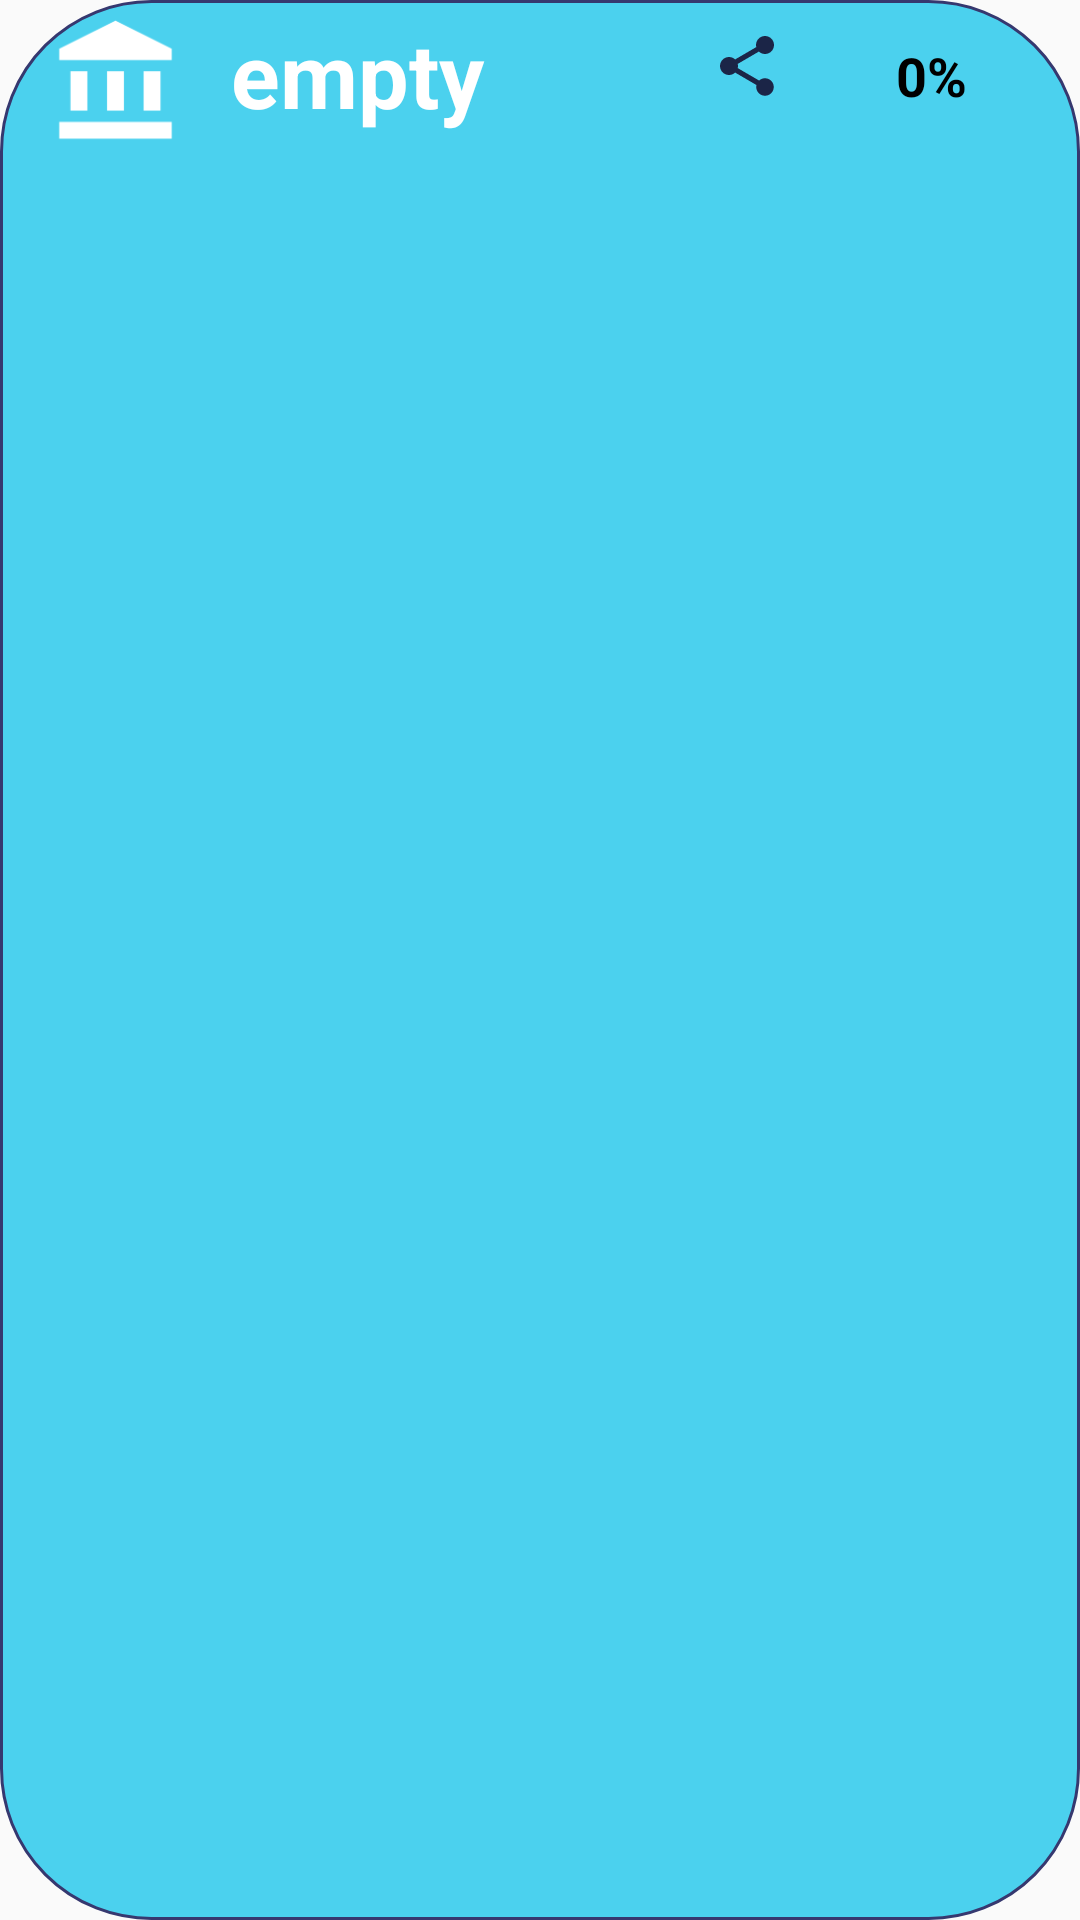

Where icons sit on this 1080x1920 app screen, as box(x1, y1, x2, y2):
account balance: box(59, 20, 172, 139)
share: box(720, 36, 774, 96)
